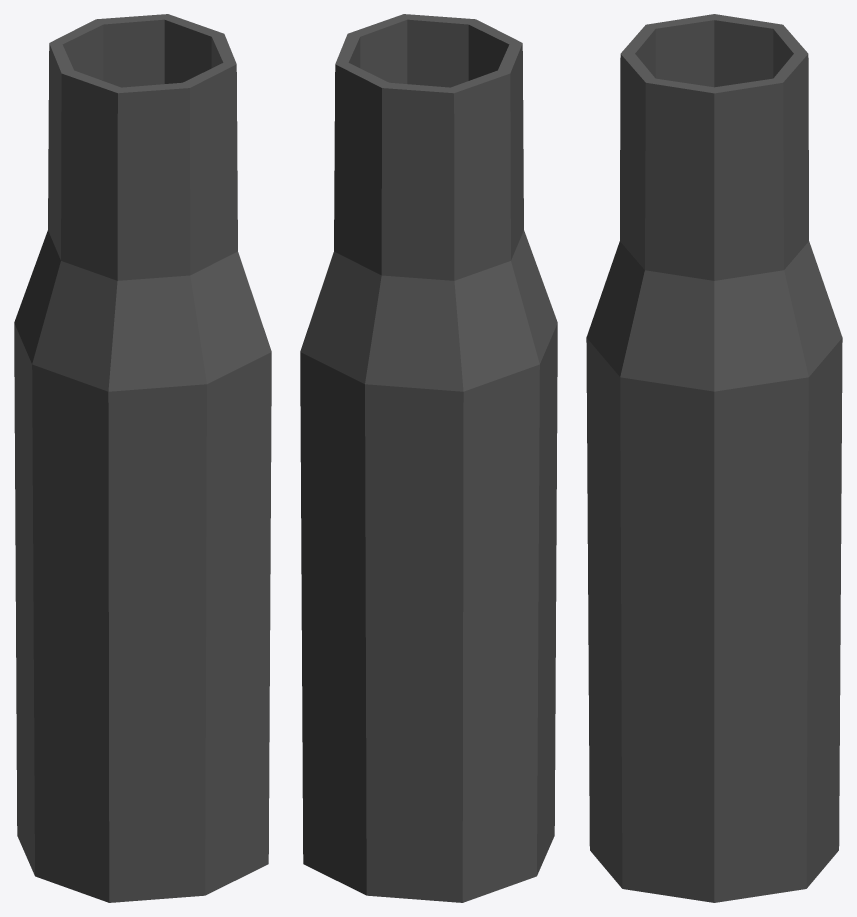
Rendered from Kitchen_Vase.fbx.
3 renders of one model, left to right at view 1: azimuth 30°, elevation 25°; view 2: azimuth 150°, elevation 25°; view 3: azimuth 270°, elevation 25°, orthographic.
Visible parts, largest first — view 1: Kitchen_Vase; view 2: Kitchen_Vase; view 3: Kitchen_Vase.
Boxes of the visible parts, bbox=[...] form: Kitchen_Vase: bbox=[14, 14, 271, 902]; Kitchen_Vase: bbox=[300, 14, 557, 902]; Kitchen_Vase: bbox=[586, 14, 842, 902].
Bounding box in the file's own units: 12.66 × 43.74 × 12.66.
